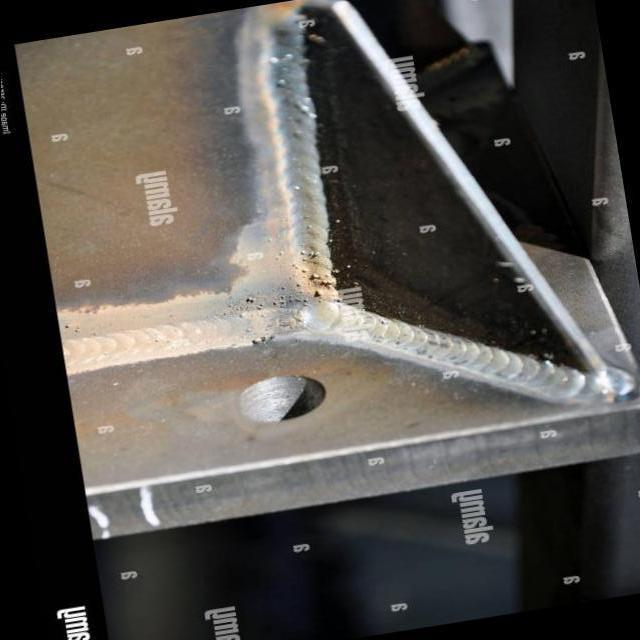defect: (291, 247, 335, 304), (270, 283, 308, 310), (243, 292, 259, 303), (250, 336, 264, 346), (237, 310, 249, 319), (255, 302, 264, 311)
